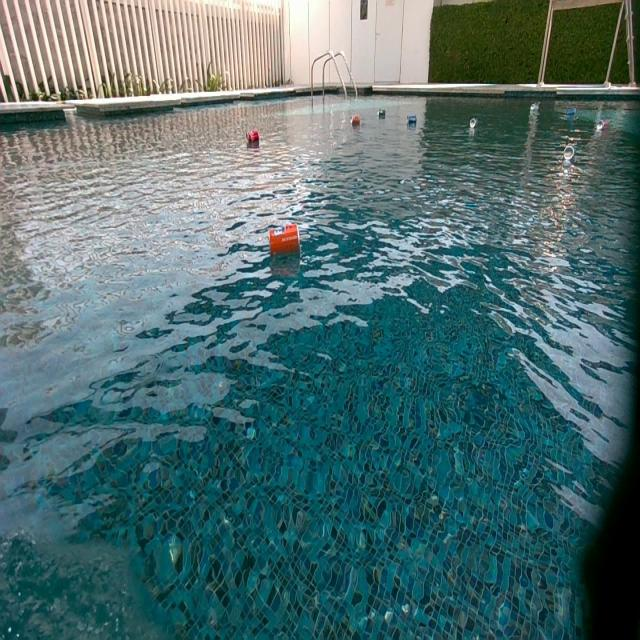Cans: (270, 223, 299, 257), (561, 144, 577, 162), (247, 130, 260, 146), (597, 118, 610, 130), (407, 114, 418, 125), (377, 108, 387, 120), (529, 103, 540, 113), (351, 114, 360, 126), (566, 108, 576, 118), (468, 117, 476, 126)
